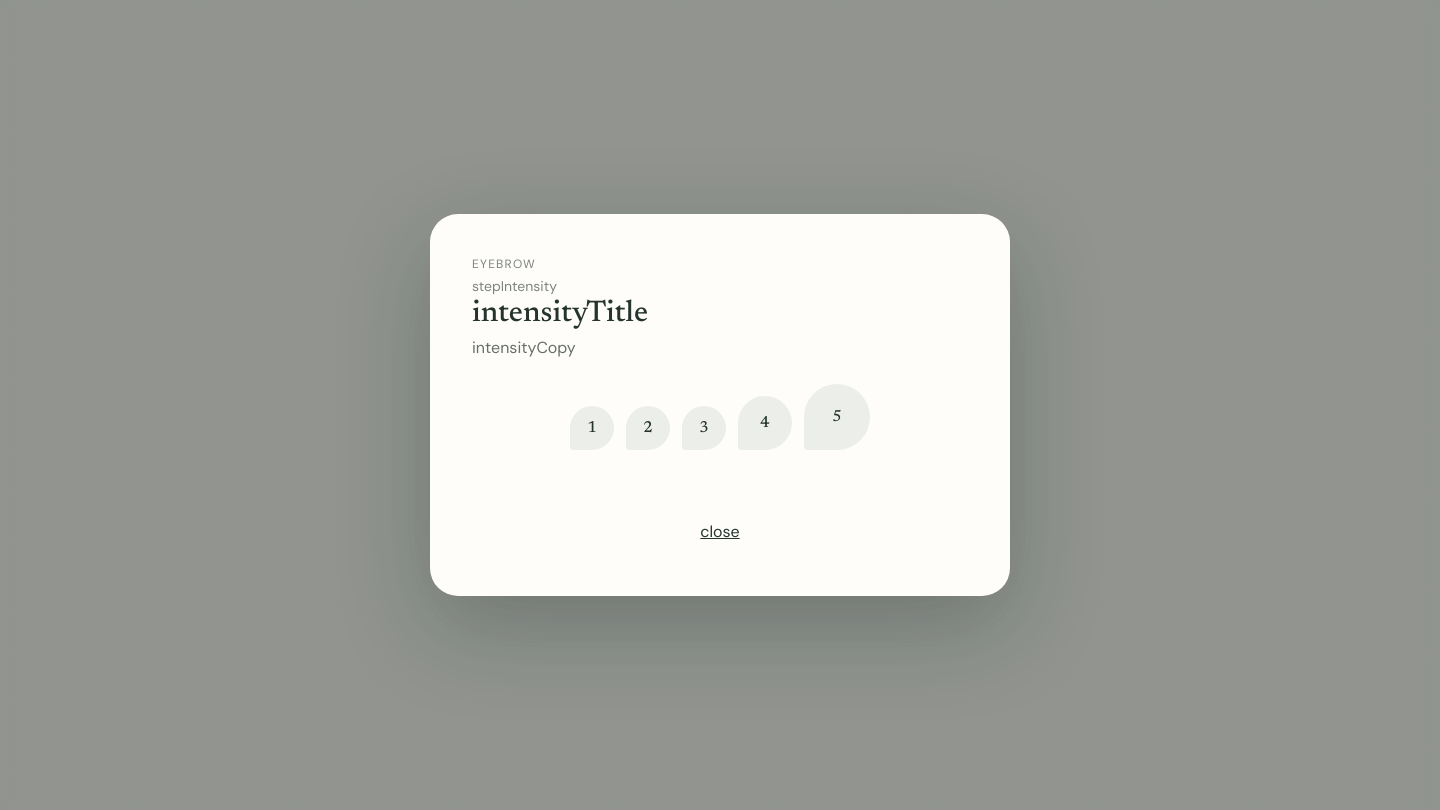
Test case: ToughDayFlow › finishing sends helped + mood_after via PATCH
The width and height of the screenshot is (1440, 810).
Step 1. Click the radio button named "2:" → {"x": 648, "y": 428}, box [626,406,670,450]
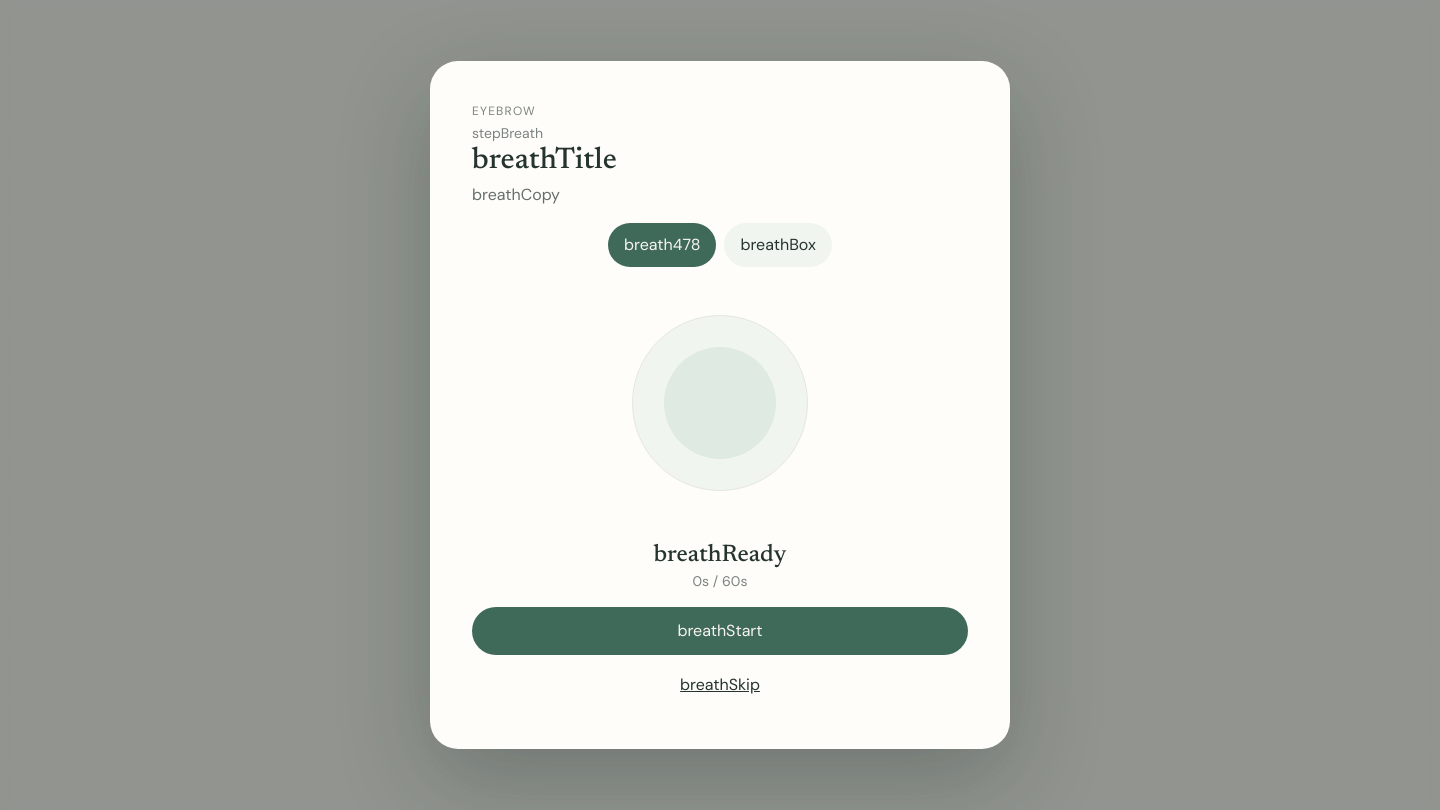
Now the heading "breathTitle" is shown, box [472,146,617,176]
Step 2. Click the button "breathSkip" → {"x": 720, "y": 685}, box [472,663,968,707]
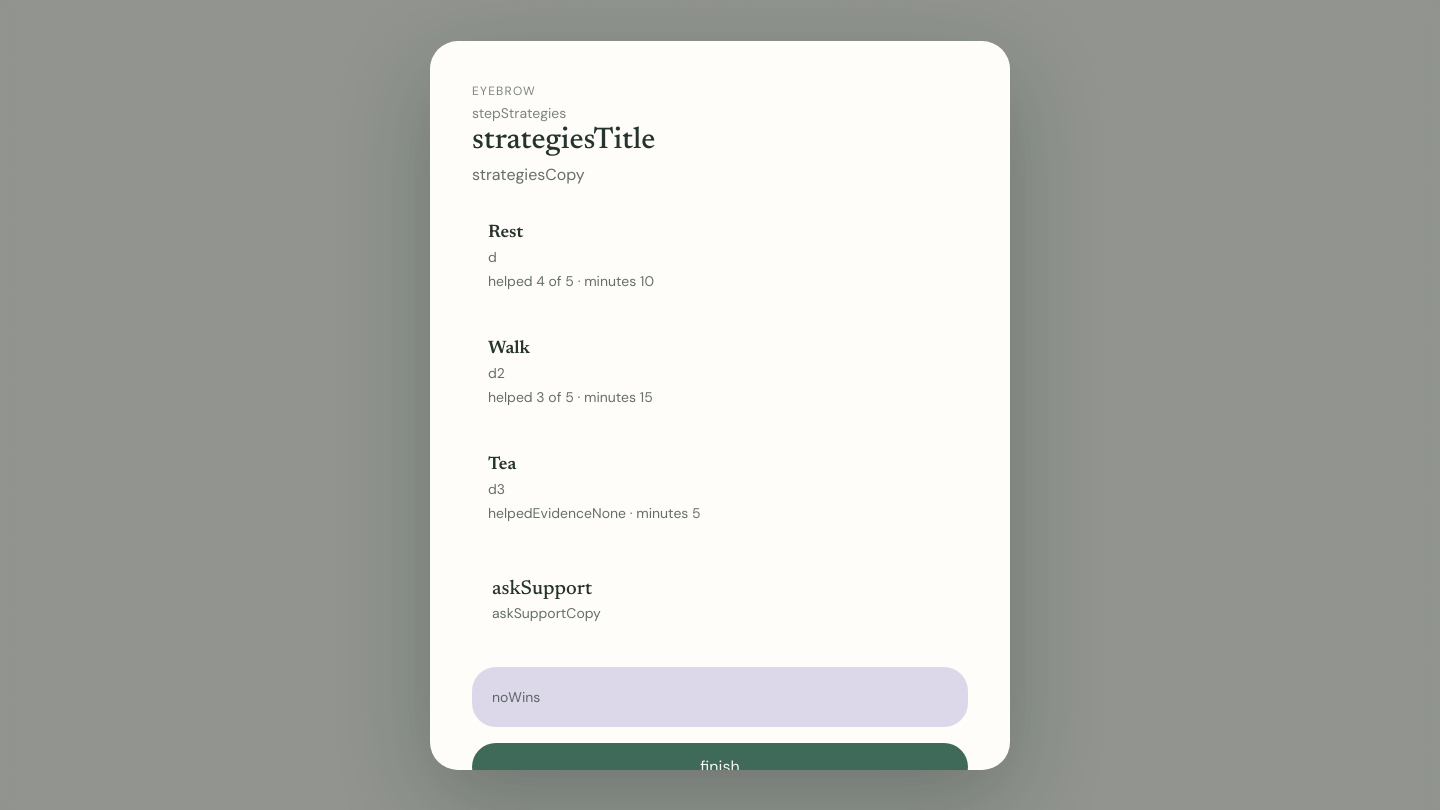
Now the heading "strategiesTitle" is shown, box [472,126,656,156]
Step 3. Click the button "finish" → {"x": 720, "y": 766}, box [472,742,968,790]
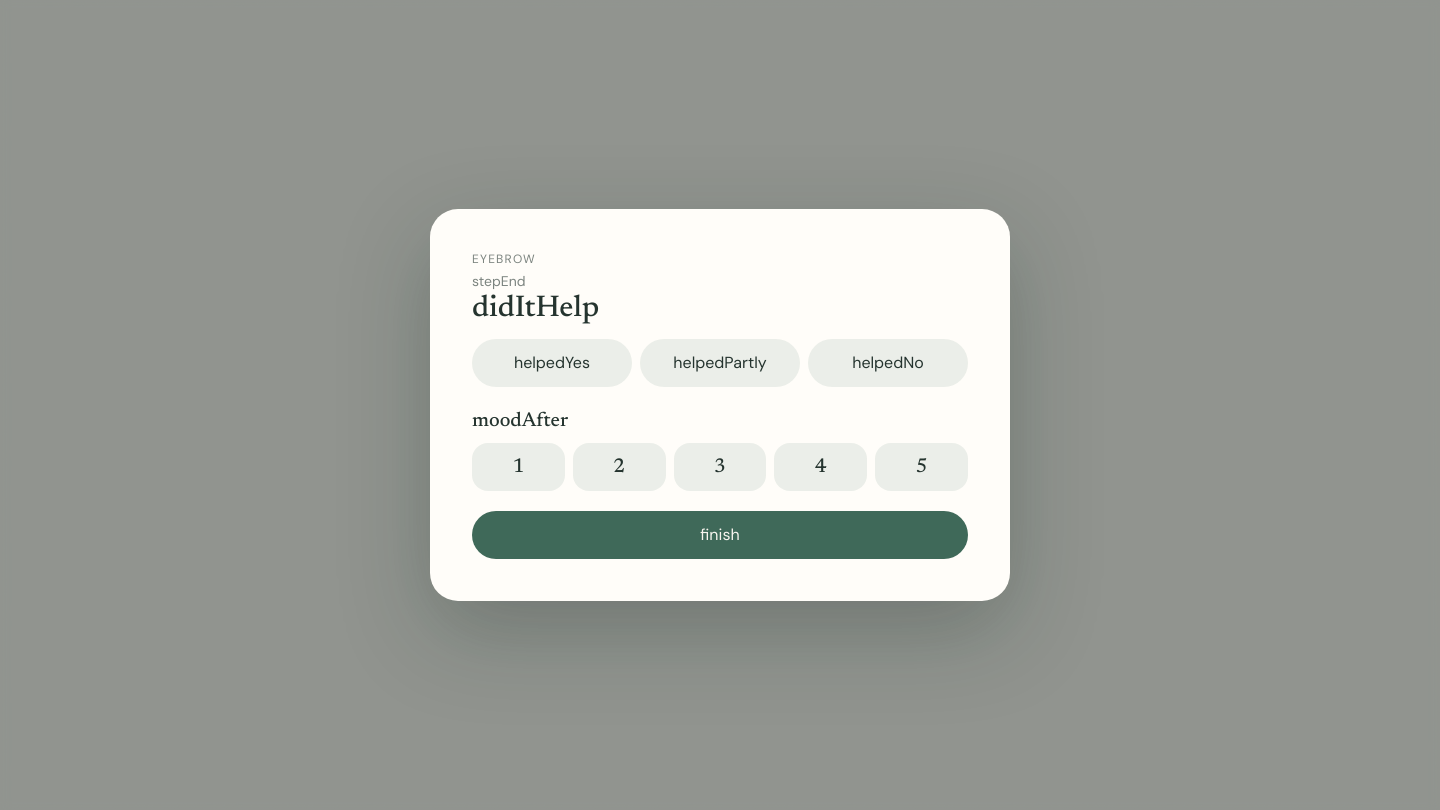
Now the heading "didItHelp" is shown, box [472,294,599,324]
Step 4. Click the radio button labelled "helpedYes" → {"x": 552, "y": 363}, box [472,339,632,387]
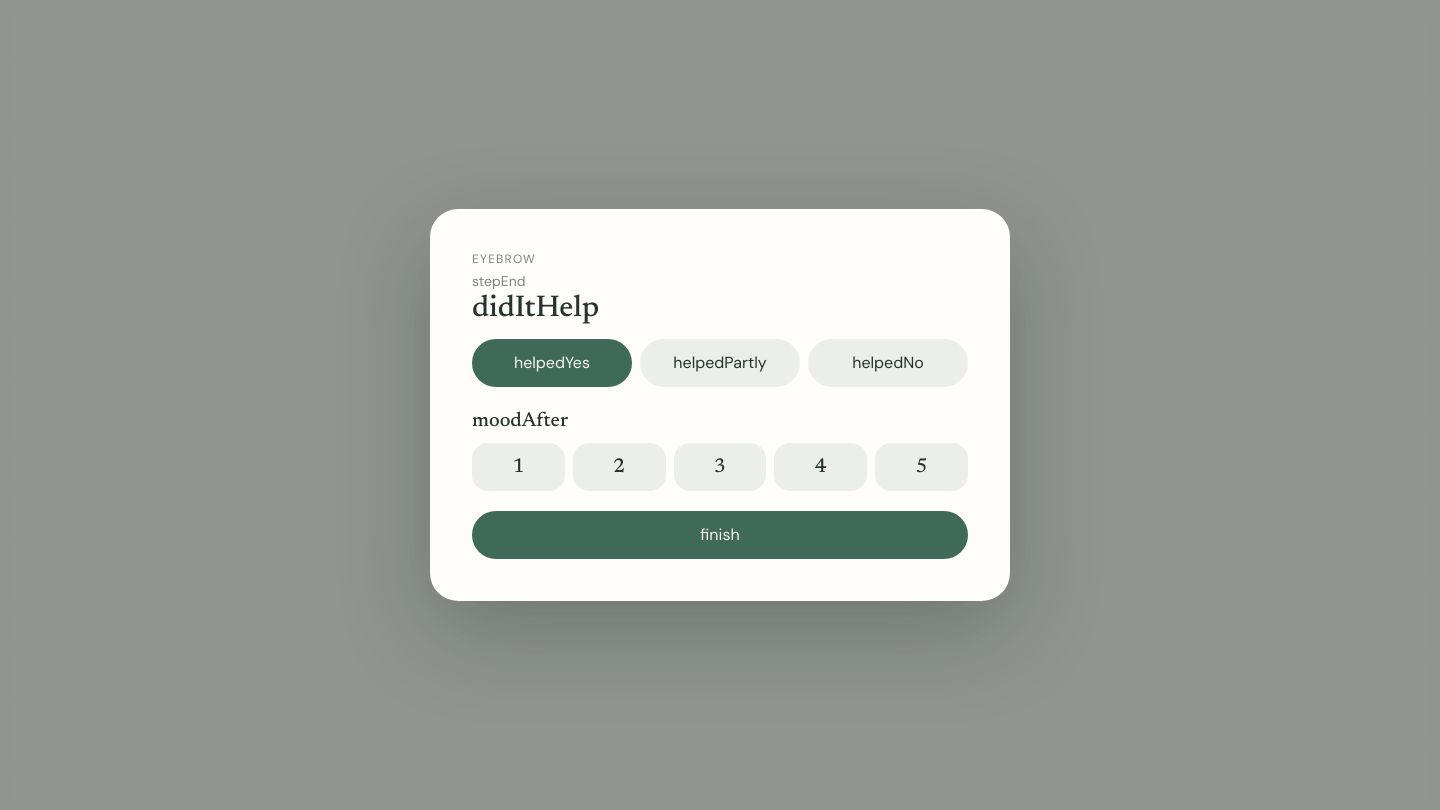
Step 5. Click the radio button labelled "4" → {"x": 821, "y": 467}, box [774,443,867,491]
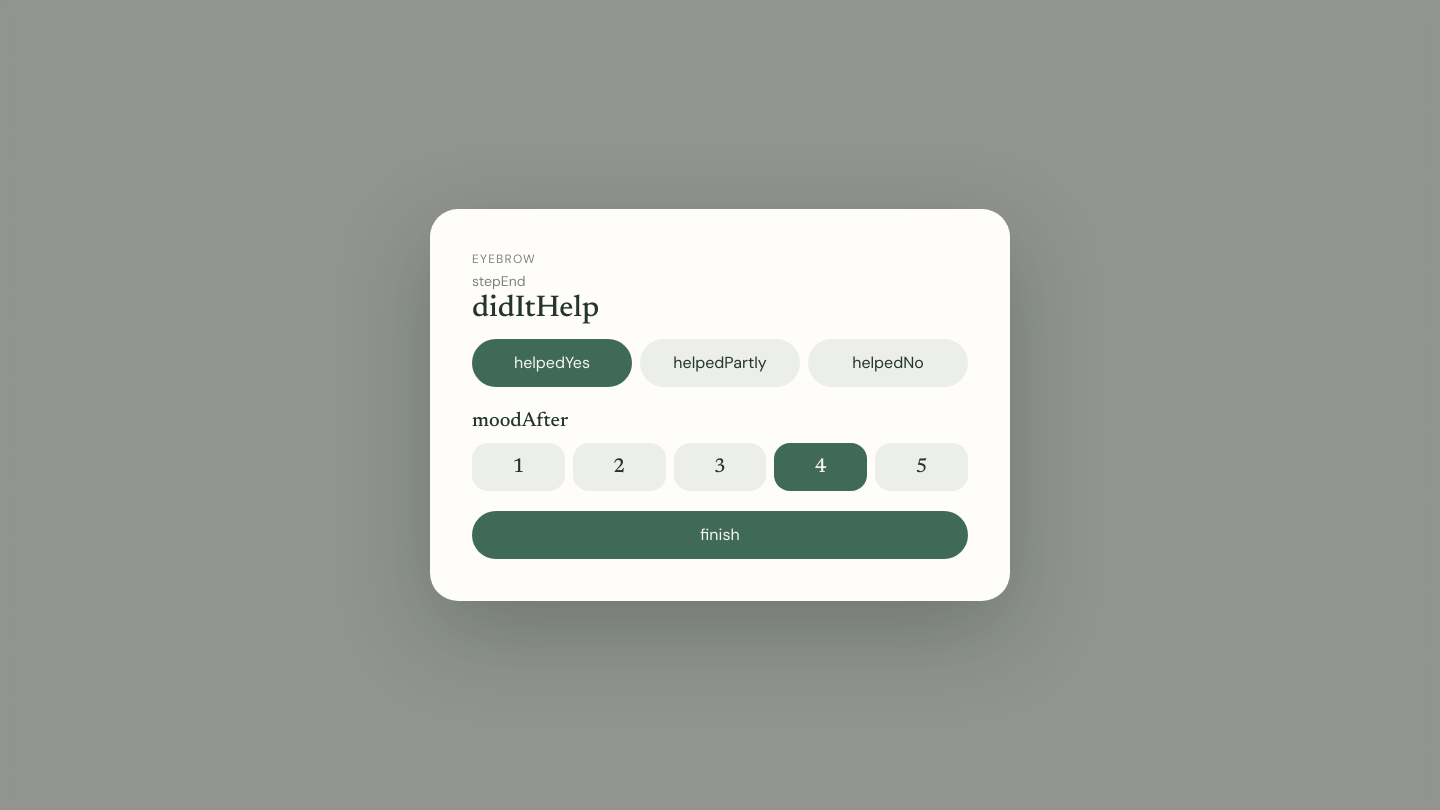
Step 6. Click the button "finish" → {"x": 720, "y": 535}, box [472,511,968,559]
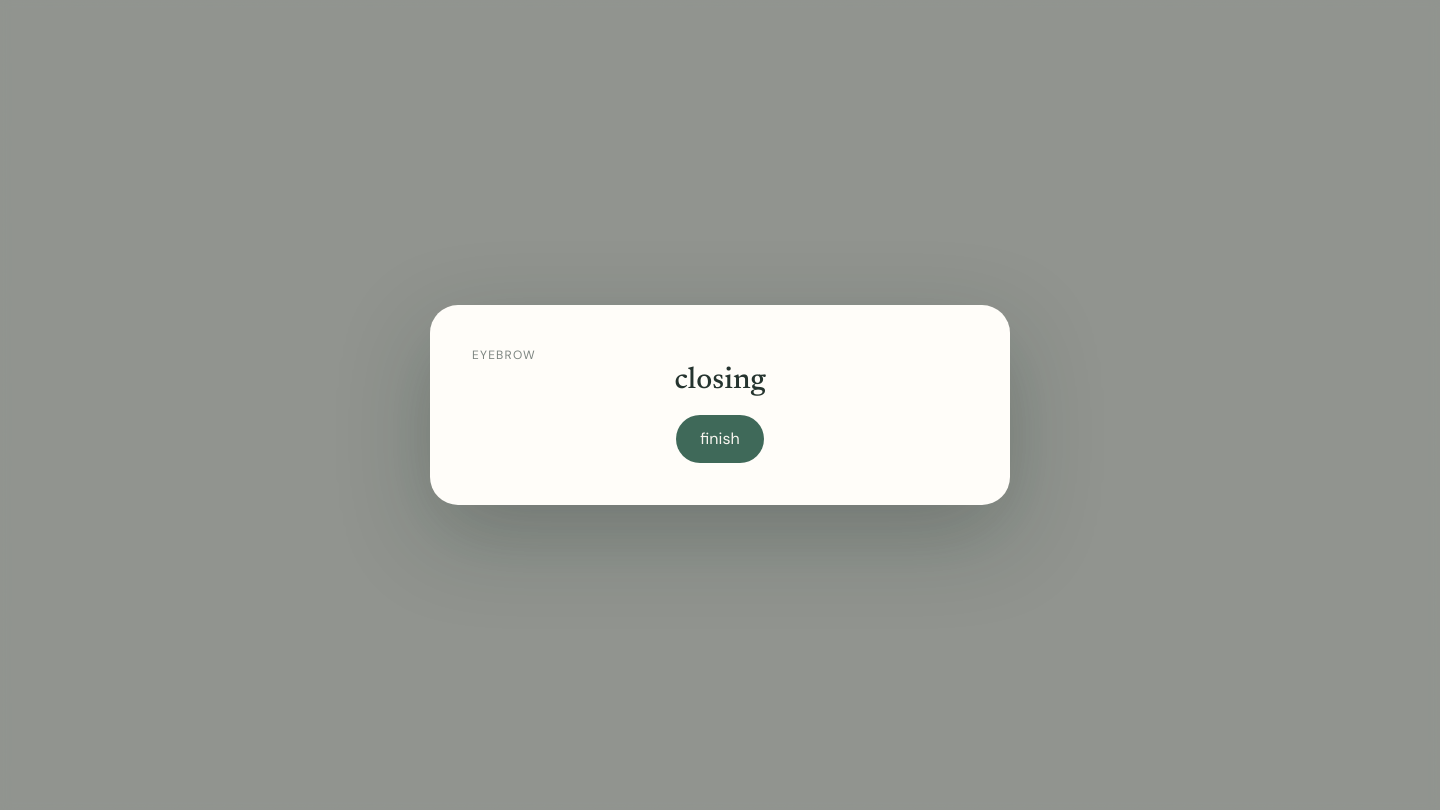
Now the heading "closing" is shown, box [674,366,766,396]
